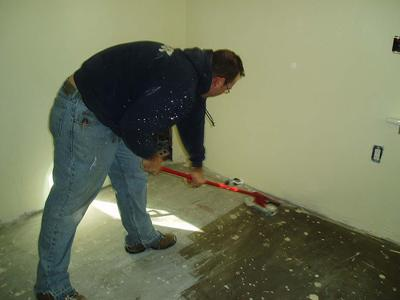person: (32, 41, 248, 300)
